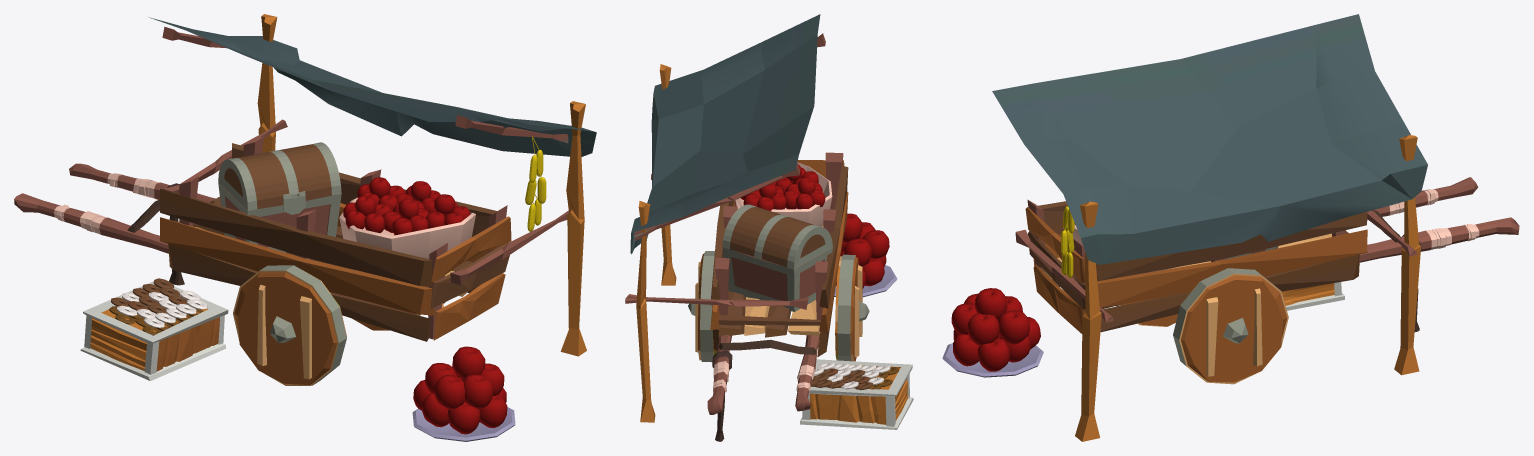
Rendered from SM_O_carretto_tenda.fbx.
The picture shows the model from 3 angles, left to right: view 1: azimuth 30°, elevation 25°; view 2: azimuth 150°, elevation 25°; view 3: azimuth 270°, elevation 25°; orthographic projection. The views are drawn at different scales.
Visible parts, largest first — view 1: SM_L_Wagon, SM_L_Wooden_Box2, SM_sacco_frutta, salami_; view 2: SM_L_Wagon, SM_sacco_frutta, SM_L_Wooden_Box2; view 3: SM_L_Wagon, SM_L_Wooden_Box2, salami_.
Boxes of the visible parts, box(x1,y1,x2,y2) form: SM_L_Wagon: box(14, 14, 596, 385); SM_L_Wooden_Box2: box(80, 278, 515, 441); SM_sacco_frutta: box(218, 142, 475, 258); salami_: box(525, 136, 546, 231); SM_L_Wagon: box(625, 14, 869, 441); SM_sacco_frutta: box(722, 162, 832, 311); SM_L_Wooden_Box2: box(800, 213, 913, 429); SM_L_Wagon: box(992, 14, 1519, 441); SM_L_Wooden_Box2: box(942, 282, 1344, 377); salami_: box(1061, 206, 1074, 278).
Bounding box in the file's own units: 255 × 186 × 335.
